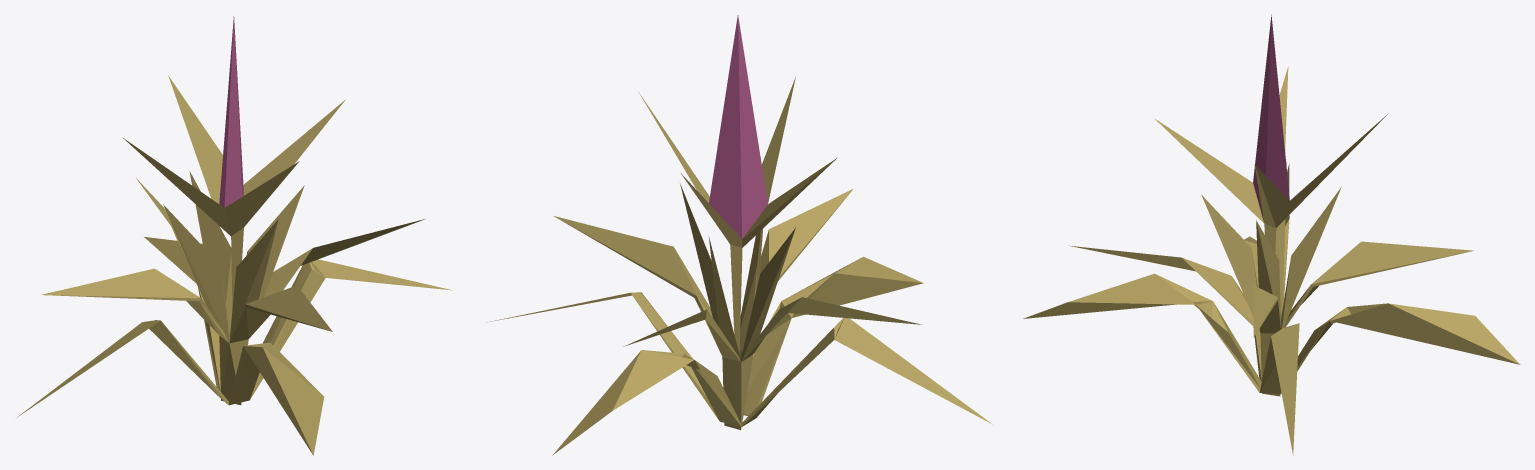
The model's file is Plant_5.lod2.glb.
3 renders of one model, left to right at view 1: azimuth 30°, elevation 25°; view 2: azimuth 150°, elevation 25°; view 3: azimuth 270°, elevation 25°, orthographic. The views are drawn at different scales.
Visible parts, largest first — view 1: Plant_5; view 2: Plant_5; view 3: Plant_5.
Part boxes in pixels (left/top/right/bottom): Plant_5: left=17, top=16, right=451, bottom=455; Plant_5: left=486, top=15, right=992, bottom=455; Plant_5: left=1023, top=14, right=1520, bottom=455.
Size of the model in its own units: 1.73 by 1.39 by 1.66.
